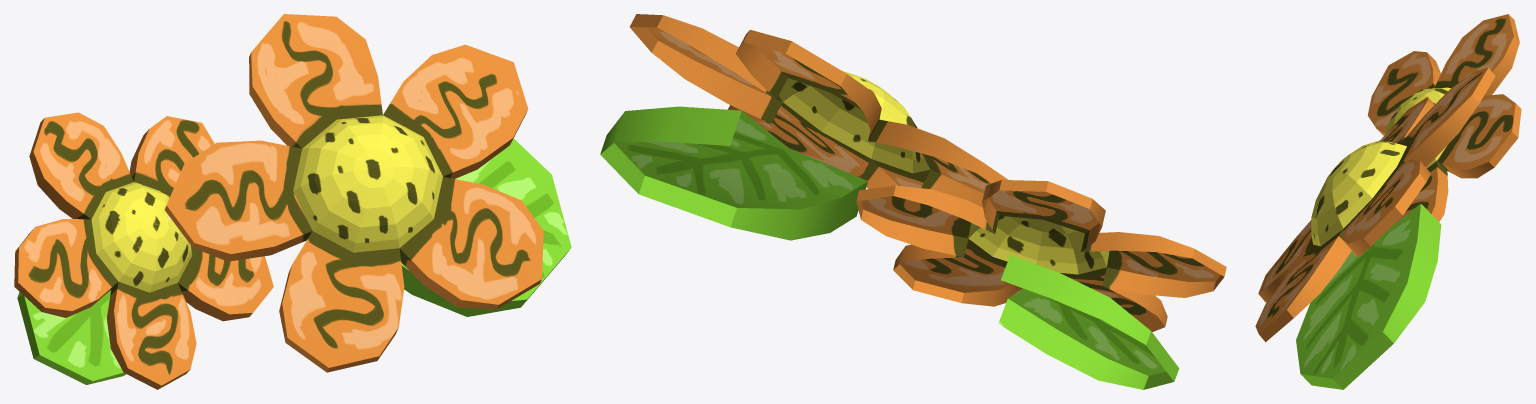
File: 40x20 Flower.fbx
3 views of the same model, side by side, from view 1: azimuth 30°, elevation 25°; view 2: azimuth 150°, elevation 25°; view 3: azimuth 270°, elevation 25° (orthographic). The views are drawn at different scales.
Parts seen in each view (by area): view 1: polySurface20; view 2: polySurface20; view 3: polySurface20.
Part boxes in pixels (x1,y1,x2,y2): polySurface20: [14, 14, 571, 389]; polySurface20: [600, 14, 1226, 389]; polySurface20: [1255, 14, 1521, 389].
Bounding box in the file's own units: 42.38 × 20.88 × 19.18.
Materials: 1 (1 with a texture image).
